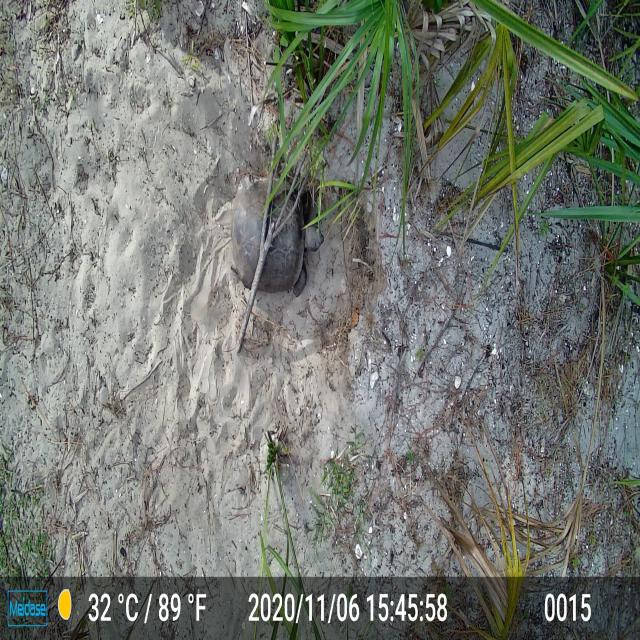tortoise: (231, 169, 326, 306)
